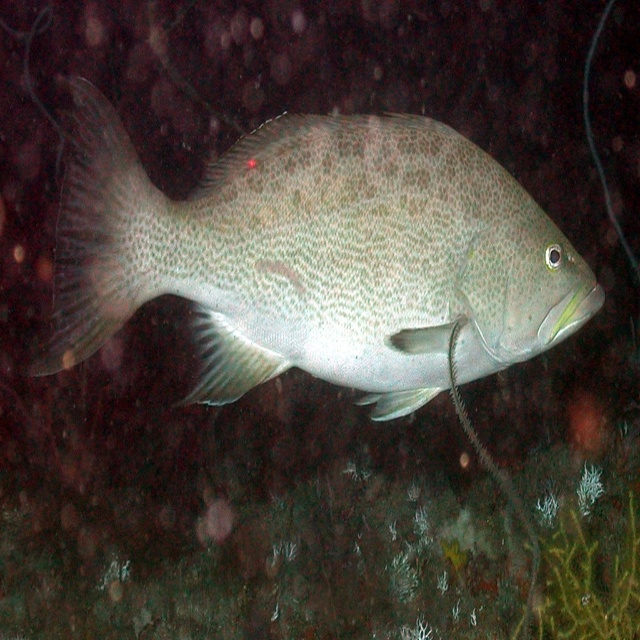Fish: (38, 81, 615, 472)
